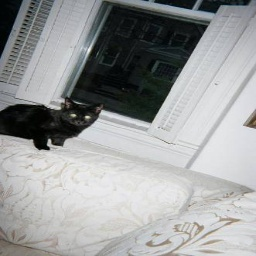cat: (0, 93, 104, 159)
